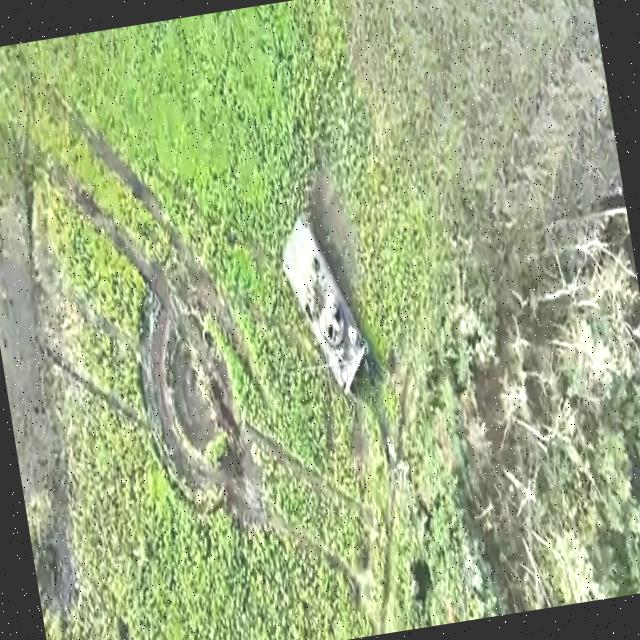AIFV: (274, 205, 378, 406)
